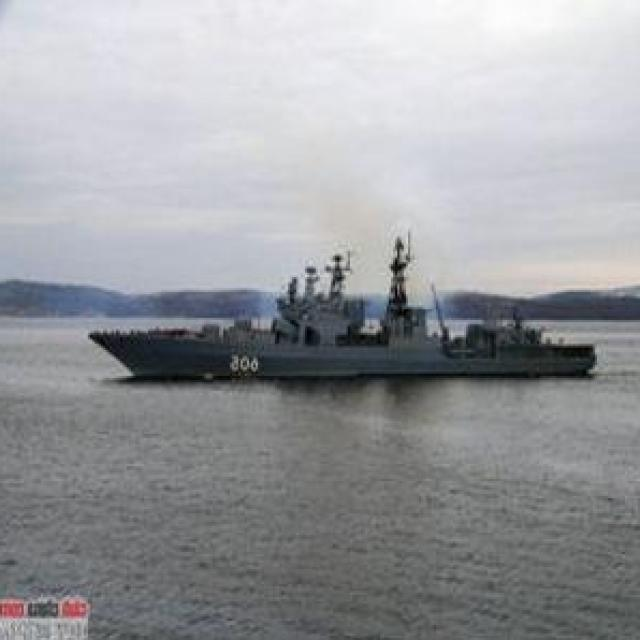navalvessels: (88, 227, 601, 382)
